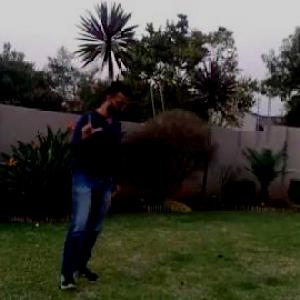land_hand: (72, 107, 106, 142)
